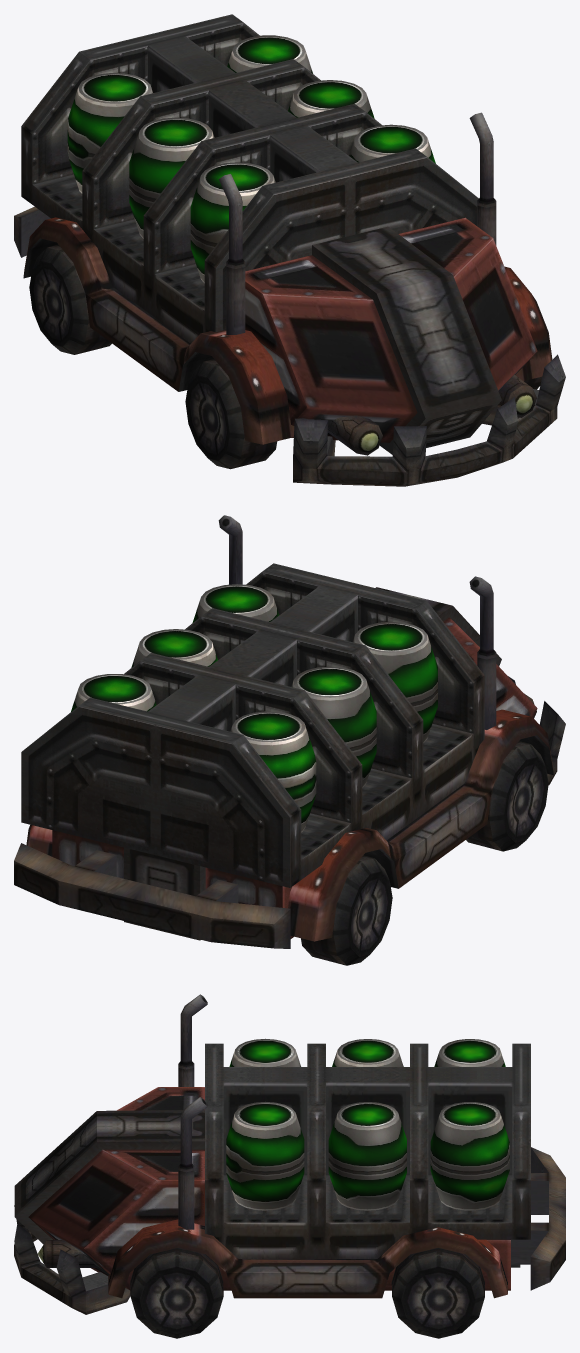
Rendered from cargotruck_00.fbx.
3 renders of one model, top to bottom at view 1: azimuth 30°, elevation 25°; view 2: azimuth 150°, elevation 25°; view 3: azimuth 270°, elevation 25°, orthographic. The views are drawn at different scales.
Parts seen in each view (by area): view 1: Geoset_0, Geoset_1; view 2: Geoset_0, Geoset_1; view 3: Geoset_0, Geoset_1.
Boxes of the visible parts, x1,y1,x2,y2 form: Geoset_0: (14,14,565,486); Geoset_1: (67,35,435,283); Geoset_0: (14,515,565,965); Geoset_1: (71,584,437,832); Geoset_0: (14,994,565,1338); Geoset_1: (226,1038,509,1210).
Size of the model in its own units: 1.66 by 1.37 by 2.96.
Materials: 2 (2 with a texture image).
